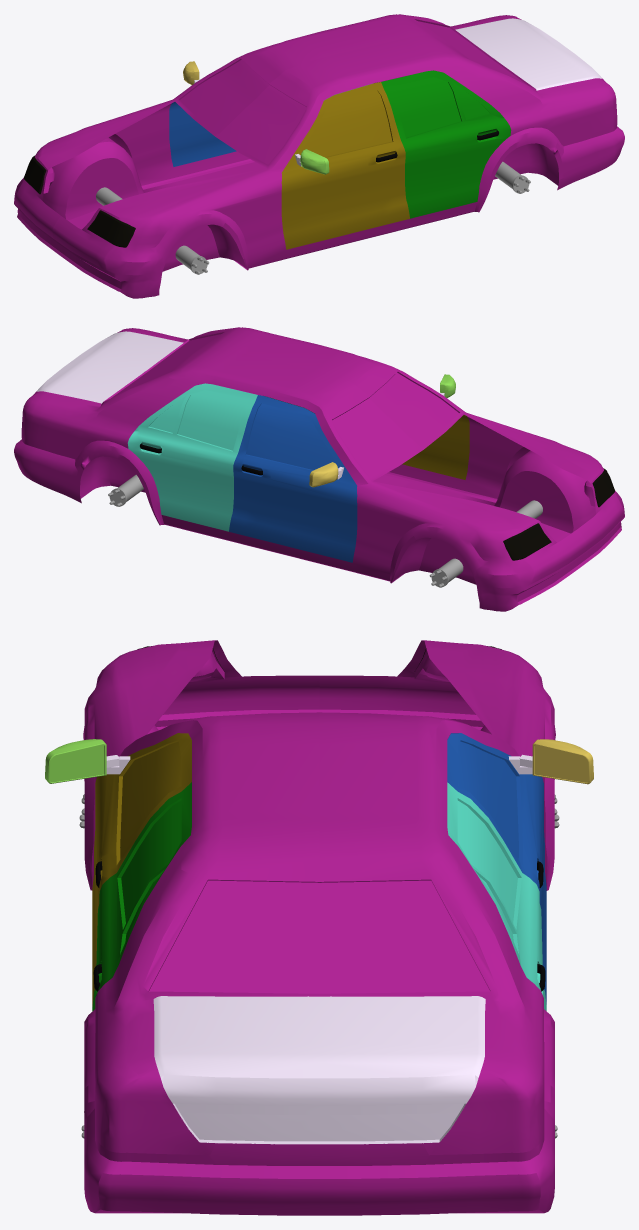
The model's file is Carro_ANC.obj.
3 views of the same model, one above another, from view 1: azimuth 30°, elevation 25°; view 2: azimuth 150°, elevation 25°; view 3: azimuth 270°, elevation 25° (orthographic). The views are drawn at different scales.
Parts seen in each view (by area): view 1: Object112, Object2, Object3, Object1, Object21, Object4, cylinder2, Object111, Object41; view 2: Object112, Object21, Object31, Object1, Object2, Object41, cylinder2, Object1111, Object4; view 3: Object112, Object1, Object2, Object21, Object31, Object3, Object111, Object1111.
Boxes of the visible parts, left/top/right/bottom form: Object112: left=14, top=14, right=624, bottom=298; Object2: left=281, top=82, right=409, bottom=249; Object3: left=381, top=70, right=511, bottom=218; Object1: left=455, top=18, right=602, bottom=90; Object21: left=169, top=102, right=236, bottom=166; Object4: left=87, top=210, right=135, bottom=247; cylinder2: left=96, top=187, right=199, bottom=269; Object111: left=300, top=149, right=329, bottom=174; Object41: left=24, top=155, right=46, bottom=194; Object112: left=14, top=327, right=624, bottom=611; Object21: left=229, top=395, right=357, bottom=562; Object31: left=127, top=383, right=257, bottom=531; Object1: left=36, top=331, right=183, bottom=403; Object2: left=402, top=415, right=469, bottom=479; Object41: left=503, top=523, right=551, bottom=560; cylinder2: left=439, top=500, right=542, bottom=582; Object1111: left=309, top=462, right=338, bottom=487; Object4: left=592, top=468, right=614, bottom=507; Object112: left=83, top=640, right=555, bottom=1215; Object1: left=153, top=996, right=485, bottom=1144; Object2: left=92, top=733, right=191, bottom=1006; Object21: left=447, top=733, right=546, bottom=1004; Object31: left=447, top=782, right=546, bottom=1010; Object3: left=92, top=782, right=191, bottom=1011; Object111: left=45, top=739, right=106, bottom=783; Object1111: left=532, top=739, right=593, bottom=784.
Bounding box in the file's own units: 25.25 × 6.53 × 11.47.
